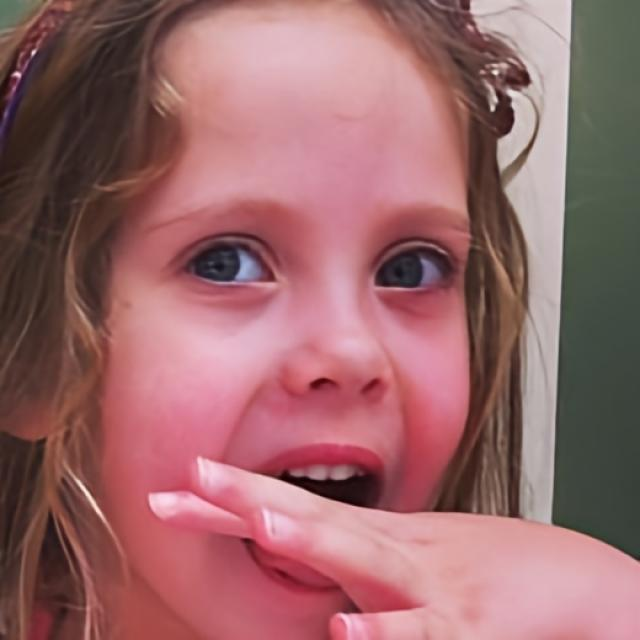Fear: (94, 1, 487, 640)
